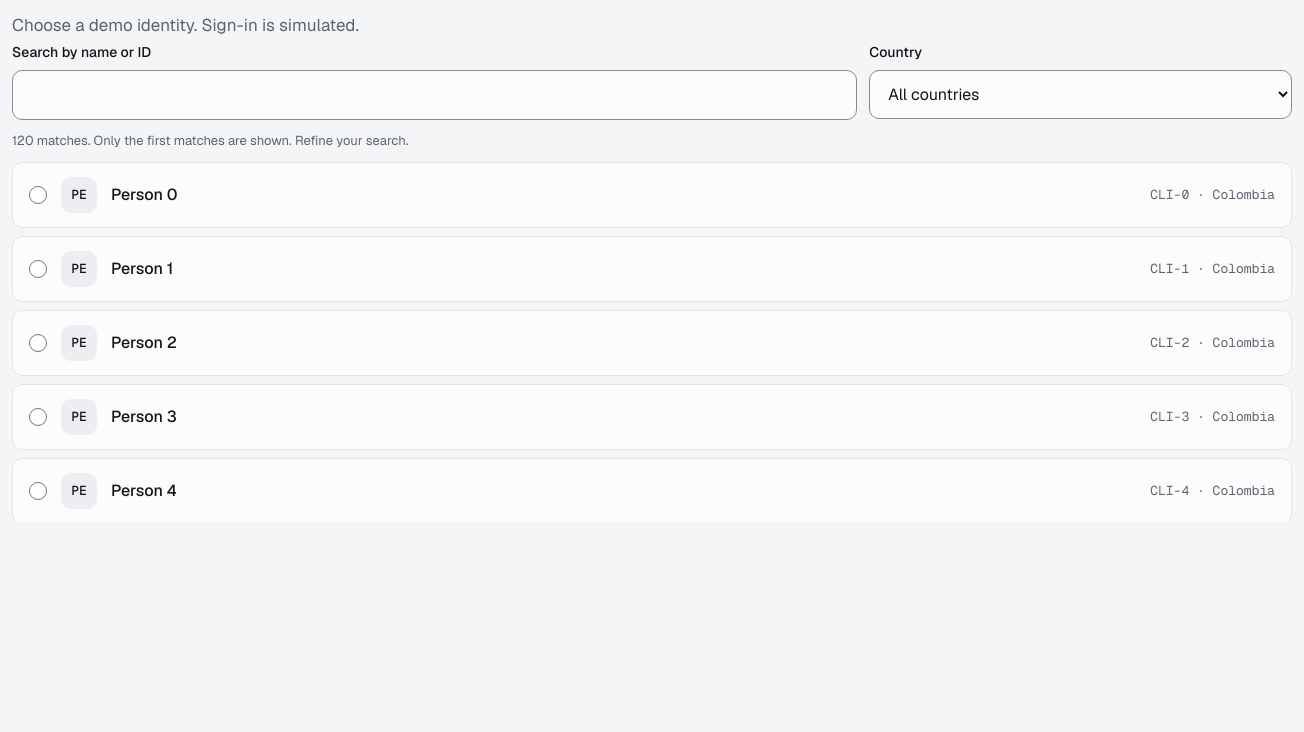
Scenario: CustomerPicker › renders at most 50 matches, counts all of them and asks to refine
The width and height of the screenshot is (1304, 732).
Type "Person 11" into the search field labelled "Search by name or ID" at (435, 95), box [12,70,857,120]
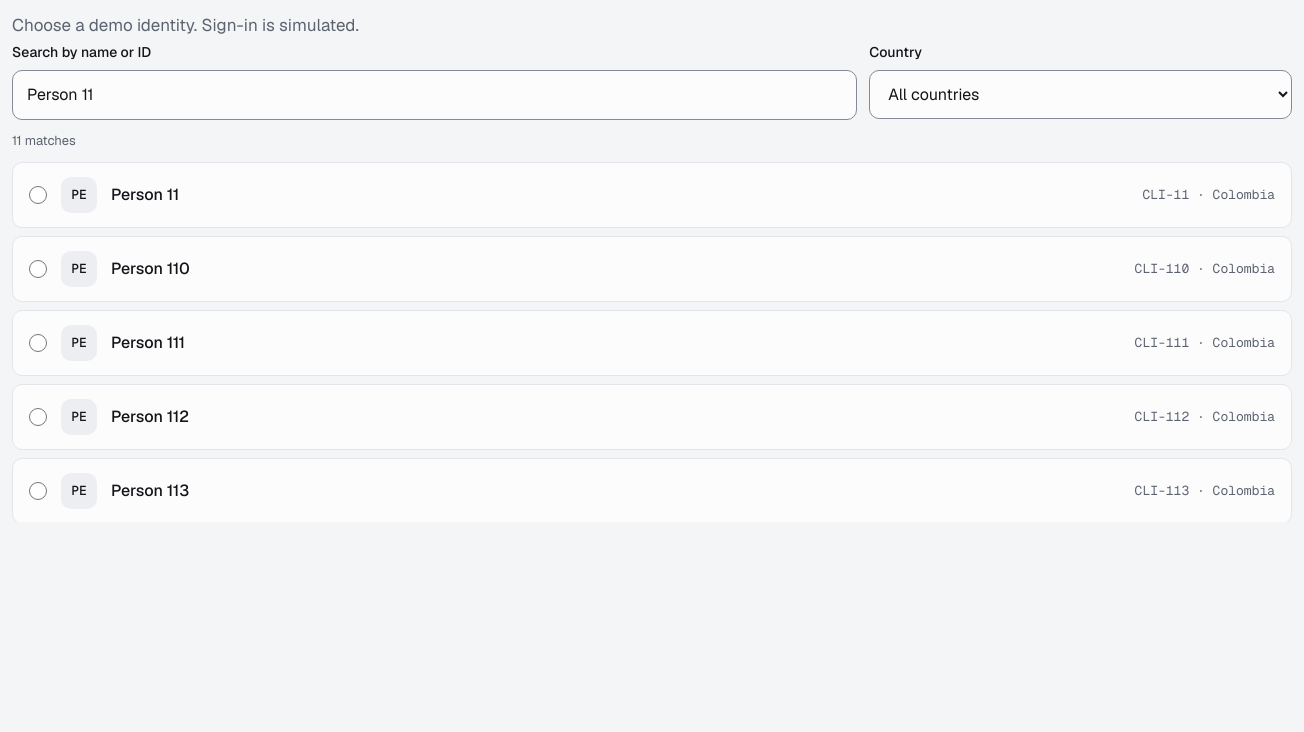
expect the text "Only the first matches are shown. Refine your search." is gone: met
